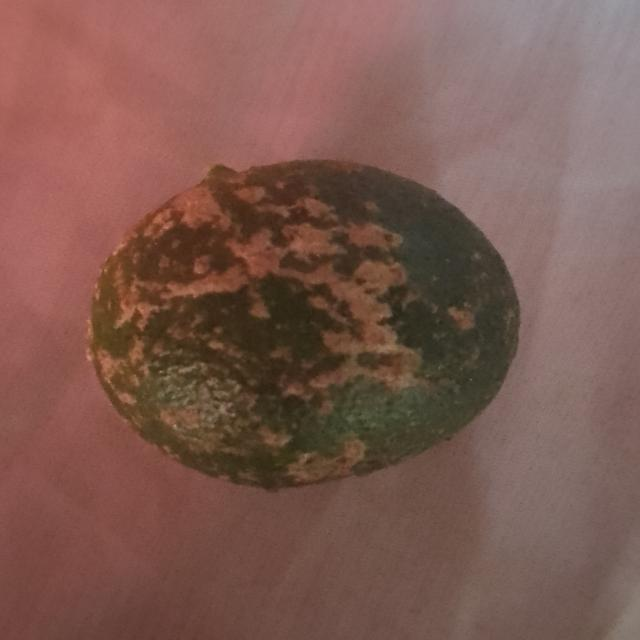scab: (96, 154, 519, 497)
